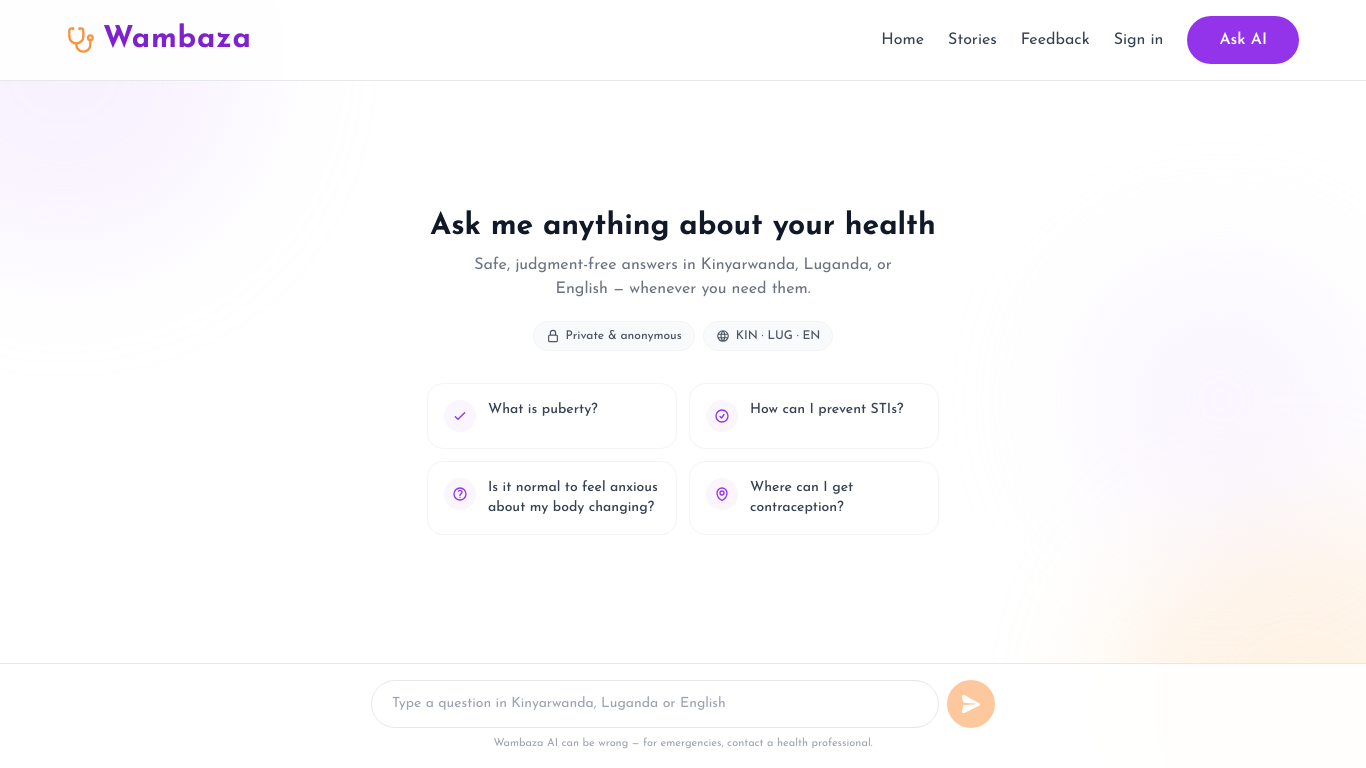
Ask AI page › sends the typed question and renders the bot answer
This screenshot has width=1366, height=768.
Type "What is puberty?" into the field with placeholder "Type a question in Kinyarwanda, Luganda or English" at x=655, y=704, box [371,680,939,728]
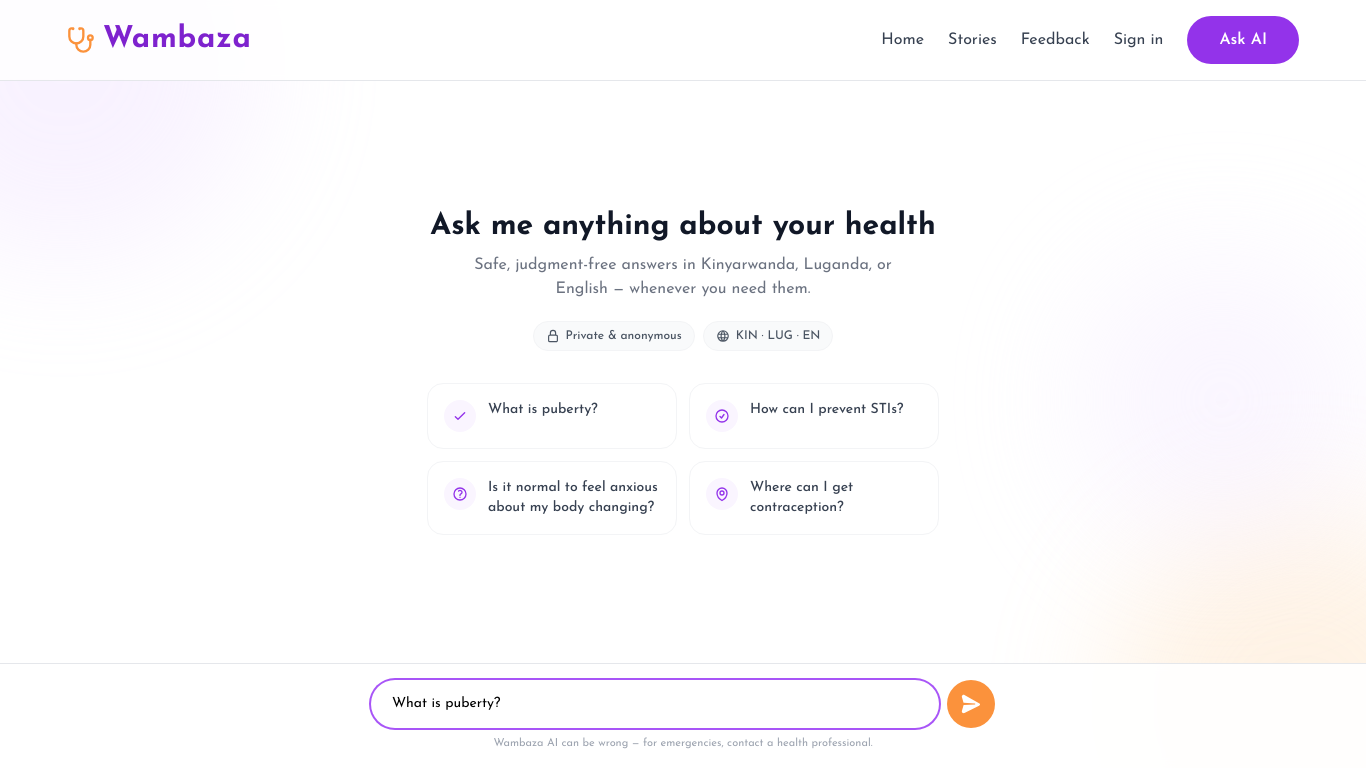
Click the 5th button at x=971, y=704, box [947,680,995,728]
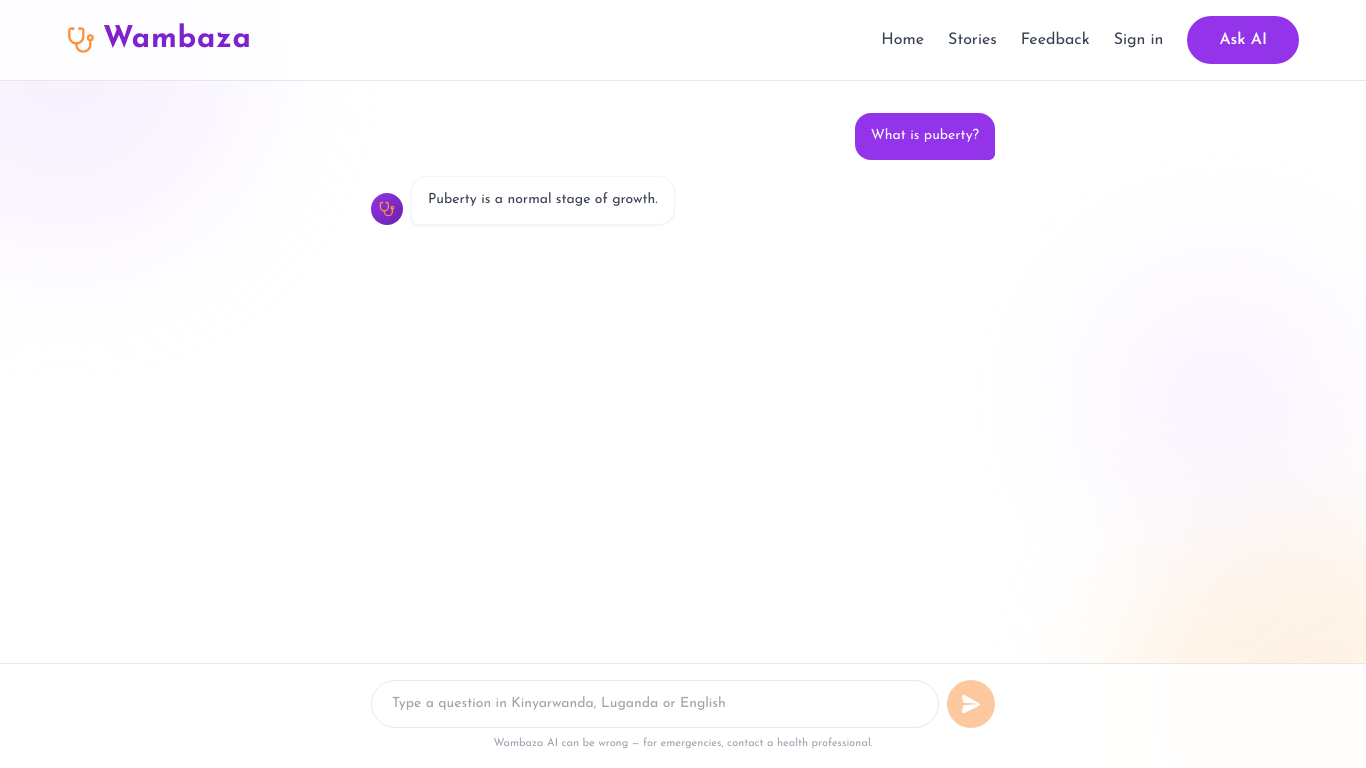
Expected: the text "What is puberty?" is shown, [855,113,995,160]
Expected: the text "Puberty is a normal stage of growth." is shown, [411,176,675,225]
